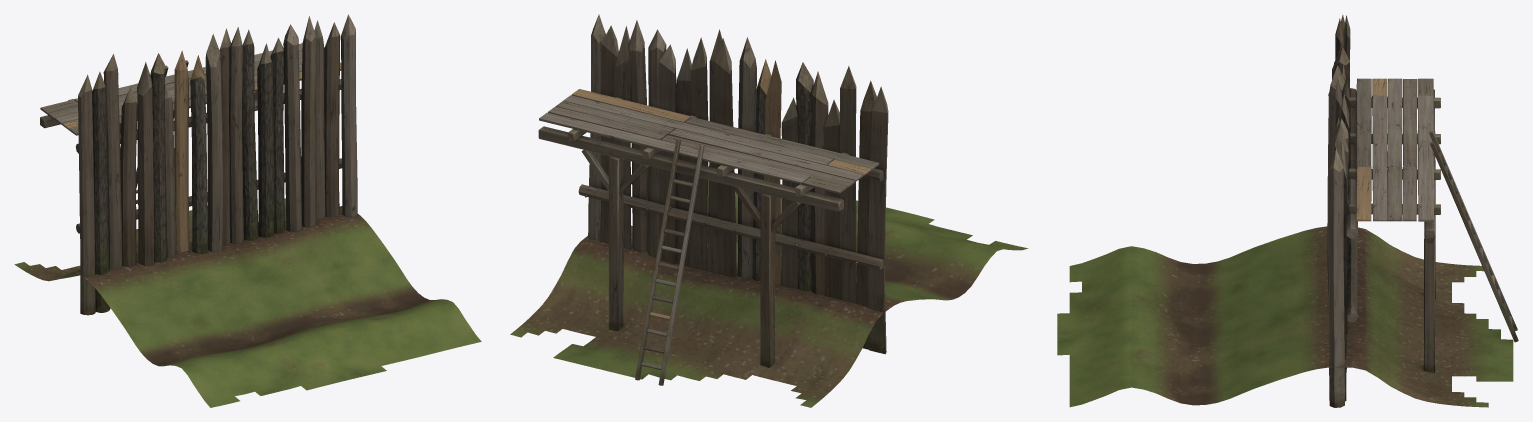
Rendered from palisade.glb.
3 renders of one model, left to right at view 1: azimuth 30°, elevation 25°; view 2: azimuth 150°, elevation 25°; view 3: azimuth 270°, elevation 25°, orthographic. The views are drawn at different scales.
Parts seen in each view (by area): view 1: palisade_LOD0; view 2: palisade_LOD0; view 3: palisade_LOD0.
Part boxes in pixels (x1,y1,x2,y2): palisade_LOD0: (14, 14, 481, 407); palisade_LOD0: (510, 14, 1028, 407); palisade_LOD0: (1057, 14, 1518, 407).
Size of what is drawn, in the model's own units: 6.06 by 5.35 by 8.27.
Materials: 1 (1 with a texture image).
